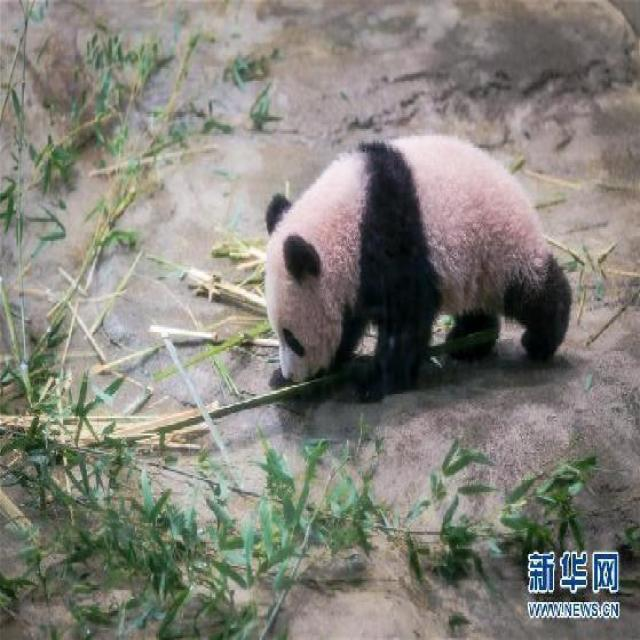panda: (249, 113, 580, 393)
